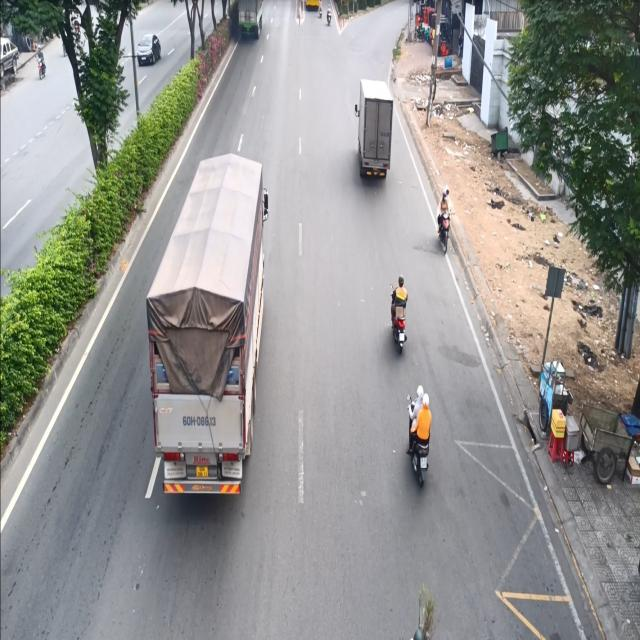motor: (404, 381, 440, 485), (386, 272, 413, 355), (434, 183, 456, 258)
truck: (145, 150, 273, 515), (353, 72, 401, 196)
